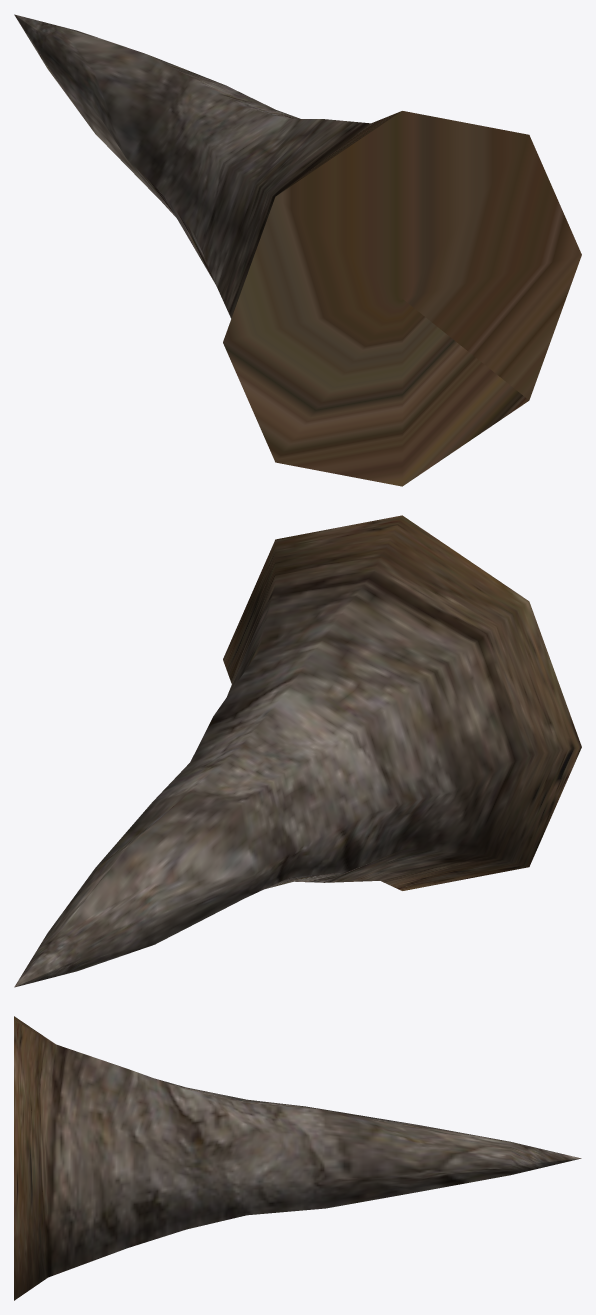
The model's file is indan_1.FBX.
3 views of the same model, one above another, from view 1: azimuth 30°, elevation 25°; view 2: azimuth 150°, elevation 25°; view 3: azimuth 270°, elevation 25° (orthographic). The views are drawn at different scales.
Visible parts, largest first — view 1: Box001; view 2: Box001; view 3: Box001.
Boxes of the visible parts, x1,y1,x2,y2 form: Box001: (14,14,581,486); Box001: (14,515,581,987); Box001: (14,1016,581,1300).
Size of the model in its own units: 0.0542 by 0.0542 by 0.1016.
